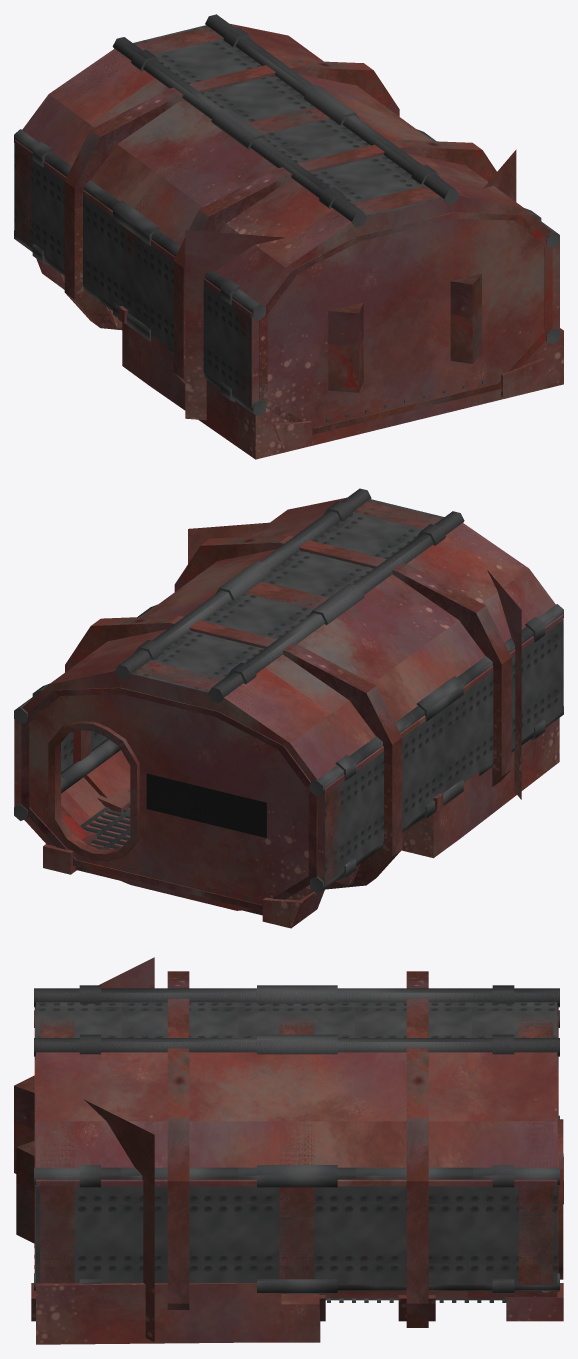
The model's file is Control_Room.obj.
3 views of the same model, one above another, from view 1: azimuth 30°, elevation 25°; view 2: azimuth 150°, elevation 25°; view 3: azimuth 270°, elevation 25° (orthographic). The views are drawn at different scales.
Visible parts, largest first — view 1: Cube.001; view 2: Cube.001; view 3: Cube.001.
Part boxes in pixels (x1=…): Cube.001: x1=14, y1=14, x2=563, y2=459; Cube.001: x1=14, y1=488, x2=563, y2=928; Cube.001: x1=14, y1=957, x2=563, y2=1344.
Bounding box in the file's own units: 6.44 × 4.43 × 8.43.
